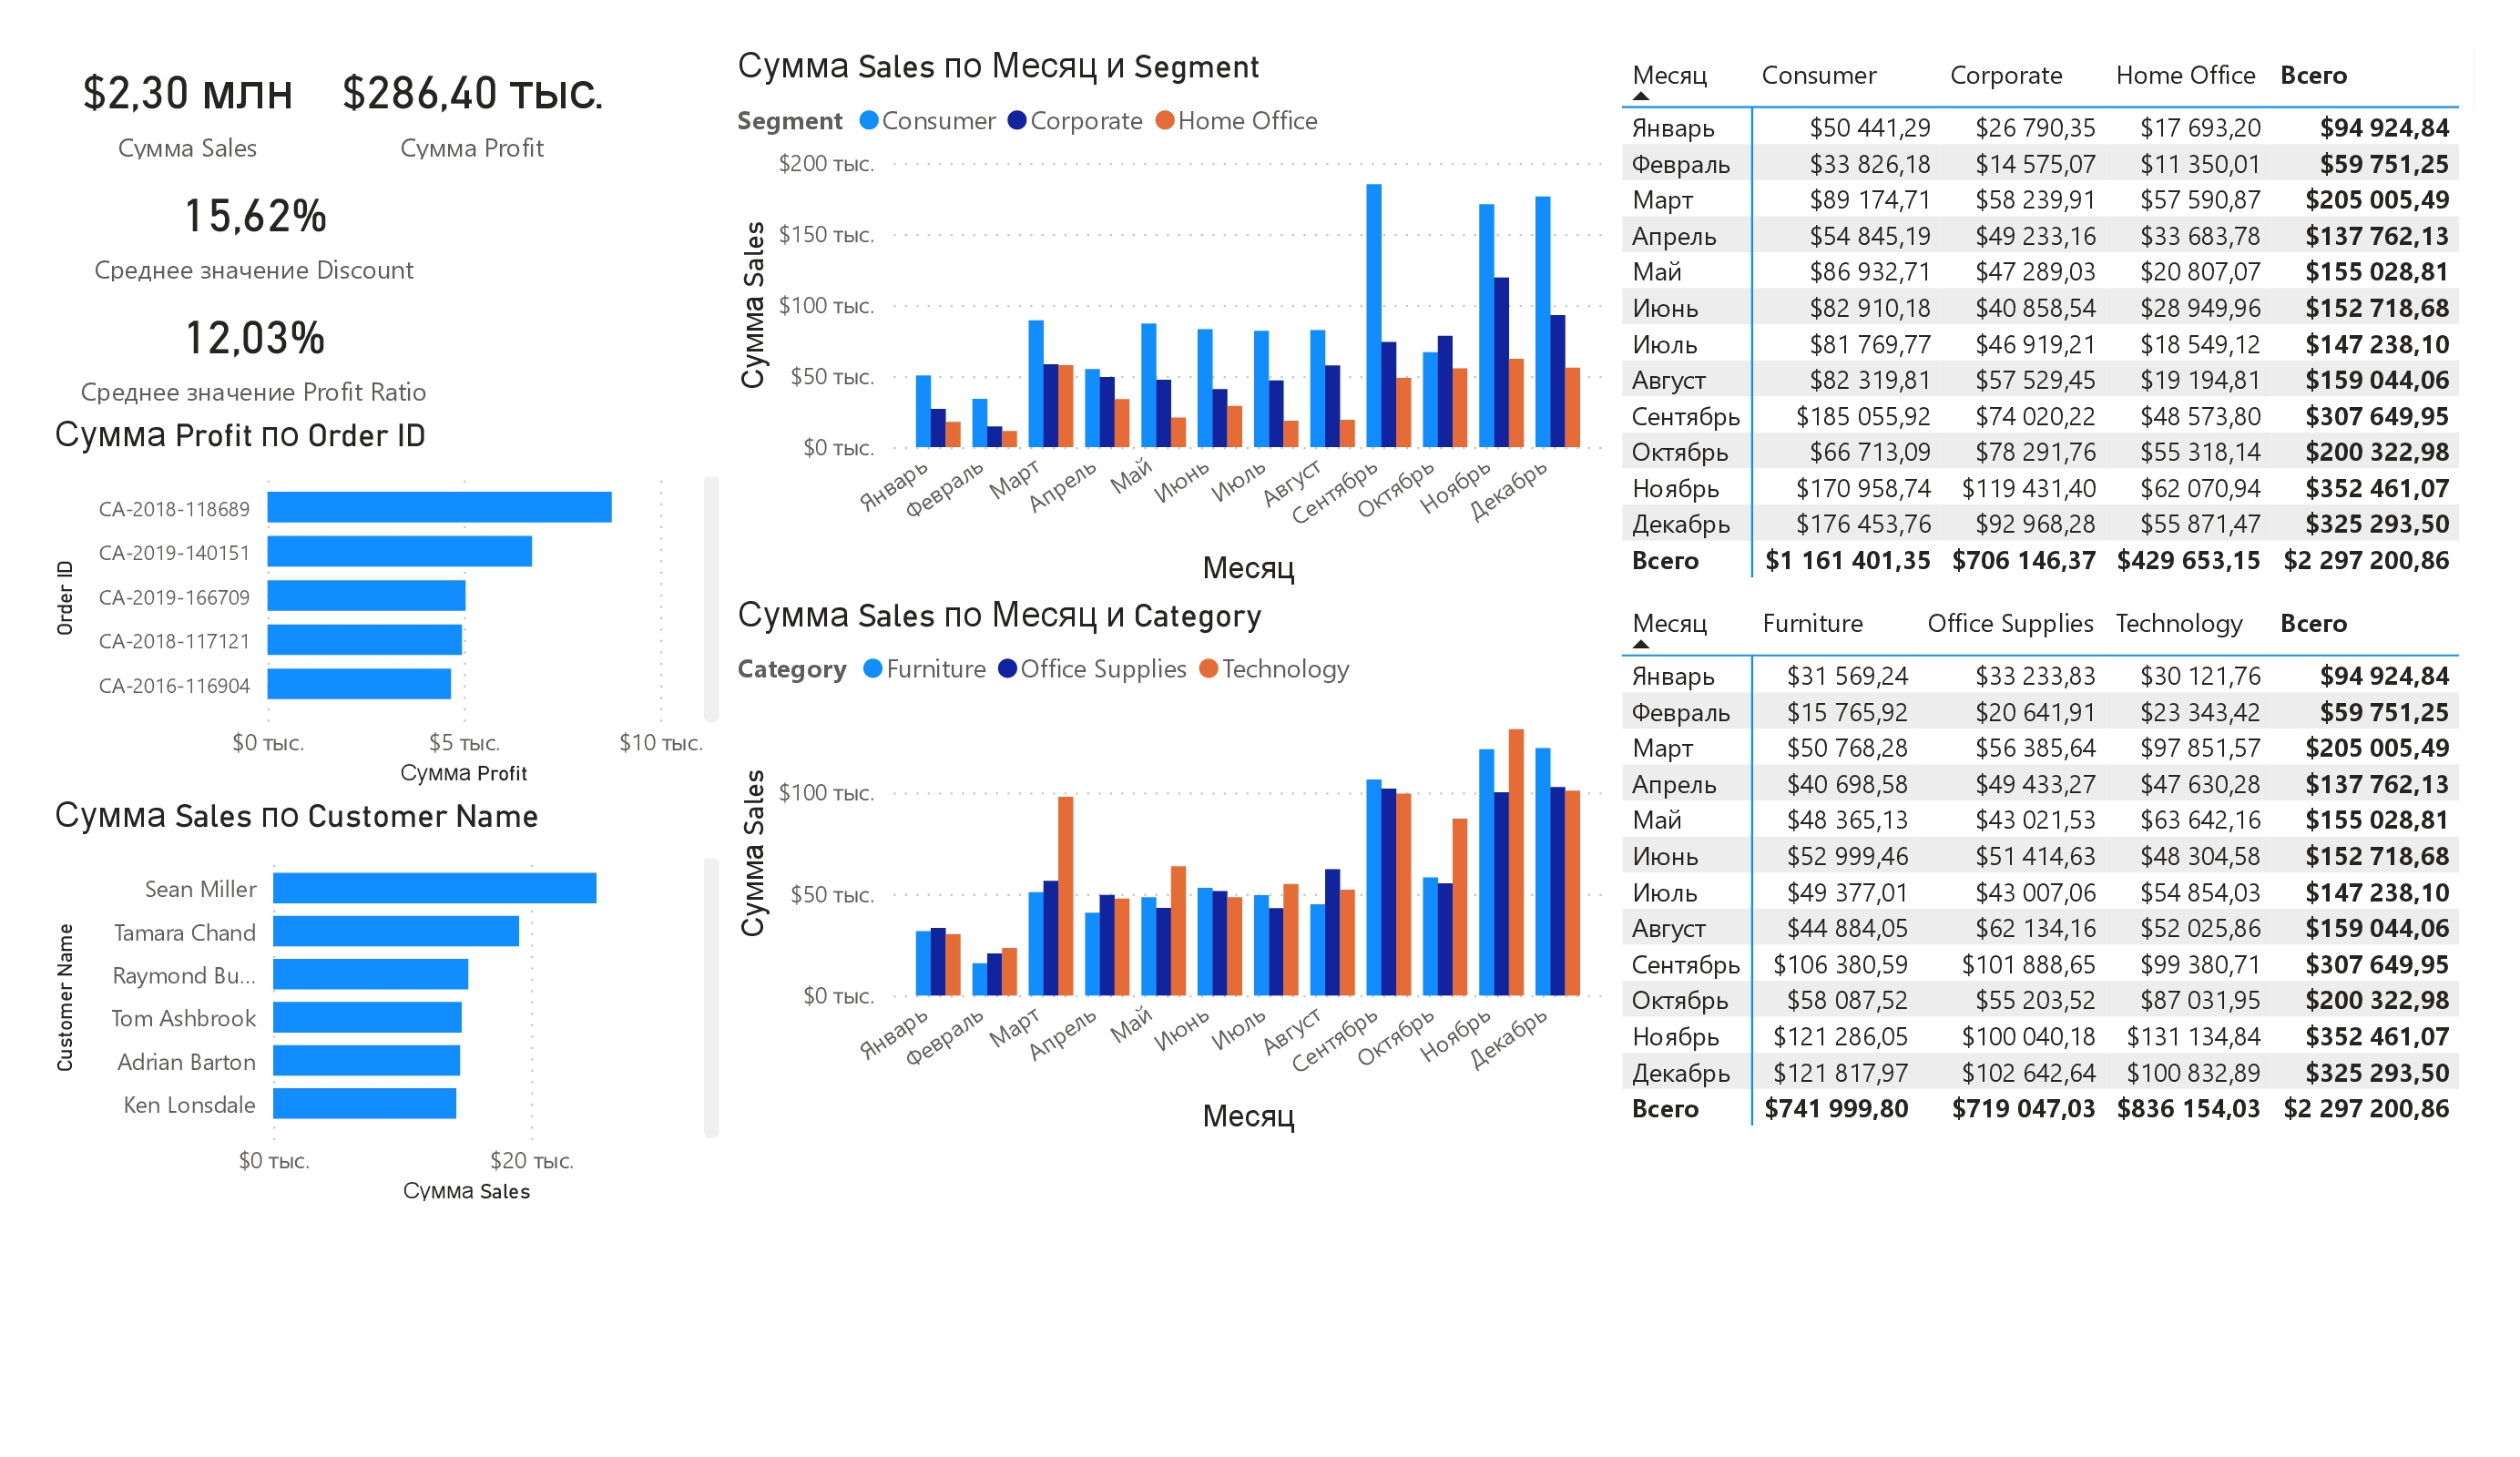

What the dashboard file says about the page in this screenshot:
{"tool":"powerbi","page":{"name":"Overview (обзор ключевых метрик)","canvas":[1280,720],"ordinal":0},"visuals":[{"type":"card","fields":{"Values":["Sum(Orders2.Sales)"]},"box":[0,0,149.9,64.7],"z":0},{"type":"card","fields":{"Values":["Sum(Orders2.Profit)"]},"box":[149.9,0,149.9,64.7],"z":1000},{"type":"card","fields":{"Values":["Avg(Orders2.Profit Ratio)"]},"box":[0,129.5,219.9,64.7],"z":2000},{"type":"clusteredBarChart","fields":{"Category":["Orders2.Order ID"],"Y":["Sum(Orders2.Profit)"]},"box":[0,194.2,360,200.4],"z":3000},{"type":"clusteredBarChart","fields":{"Category":["Orders2.Customer Name"],"Y":["Sum(Orders2.Sales)"]},"box":[0,394.6,360,219.9],"z":4000},{"type":"card","fields":{"Values":["Avg(Orders2.Discount)"]},"box":[0,64.7,219.9,64.7],"z":5000},{"type":"lineClusteredColumnComboChart","fields":{"Y":["Sum(Orders2.Sales)"],"Category":["Orders2.Order Date.Изменение.Иерархия дат.Месяц"],"Series":["Orders2.Segment"]},"box":[360,0,466.4,289.1],"z":6000},{"type":"pivotTable","fields":{"Rows":["Orders2.Order Date.Изменение.Иерархия дат.Месяц"],"Values":["Sum(Orders2.Sales)"],"Columns":["Orders2.Segment"]},"box":[826.4,0,454,289.1],"z":7000},{"type":"lineClusteredColumnComboChart","fields":{"Y":["Sum(Orders2.Sales)"],"Category":["Orders2.Order Date.Изменение.Иерархия дат.Месяц"],"Series":["Orders2.Category"]},"box":[360,289.1,466.4,289.1],"z":8000},{"type":"pivotTable","fields":{"Rows":["Orders2.Order Date.Изменение.Иерархия дат.Месяц"],"Values":["Sum(Orders2.Sales)"],"Columns":["Orders2.Category"]},"box":[826.4,289.1,454,289.1],"z":9000}]}

Visuals, with their boxes on the page's 1280x720 design canvas (x1, y1, x2, y2). These are canvas units, not pixel positions in the 2520x1457 screenshot, which may show the page scaled, cropped or inside an application window:
card - Sum(Orders2.Sales): (left=0, top=0, right=150, bottom=65)
card - Sum(Orders2.Profit): (left=150, top=0, right=300, bottom=65)
card - Avg(Orders2.Profit Ratio): (left=0, top=130, right=220, bottom=194)
clusteredBarChart - Orders2.Order ID x Sum(Orders2.Profit): (left=0, top=194, right=360, bottom=395)
clusteredBarChart - Orders2.Customer Name x Sum(Orders2.Sales): (left=0, top=395, right=360, bottom=614)
card - Avg(Orders2.Discount): (left=0, top=65, right=220, bottom=129)
lineClusteredColumnComboChart - Sum(Orders2.Sales) x Orders2.Order Date.Изменение.Иерархия дат.Месяц: (left=360, top=0, right=826, bottom=289)
pivotTable - Orders2.Order Date.Изменение.Иерархия дат.Месяц x Sum(Orders2.Sales): (left=826, top=0, right=1280, bottom=289)
lineClusteredColumnComboChart - Sum(Orders2.Sales) x Orders2.Order Date.Изменение.Иерархия дат.Месяц: (left=360, top=289, right=826, bottom=578)
pivotTable - Orders2.Order Date.Изменение.Иерархия дат.Месяц x Sum(Orders2.Sales): (left=826, top=289, right=1280, bottom=578)
